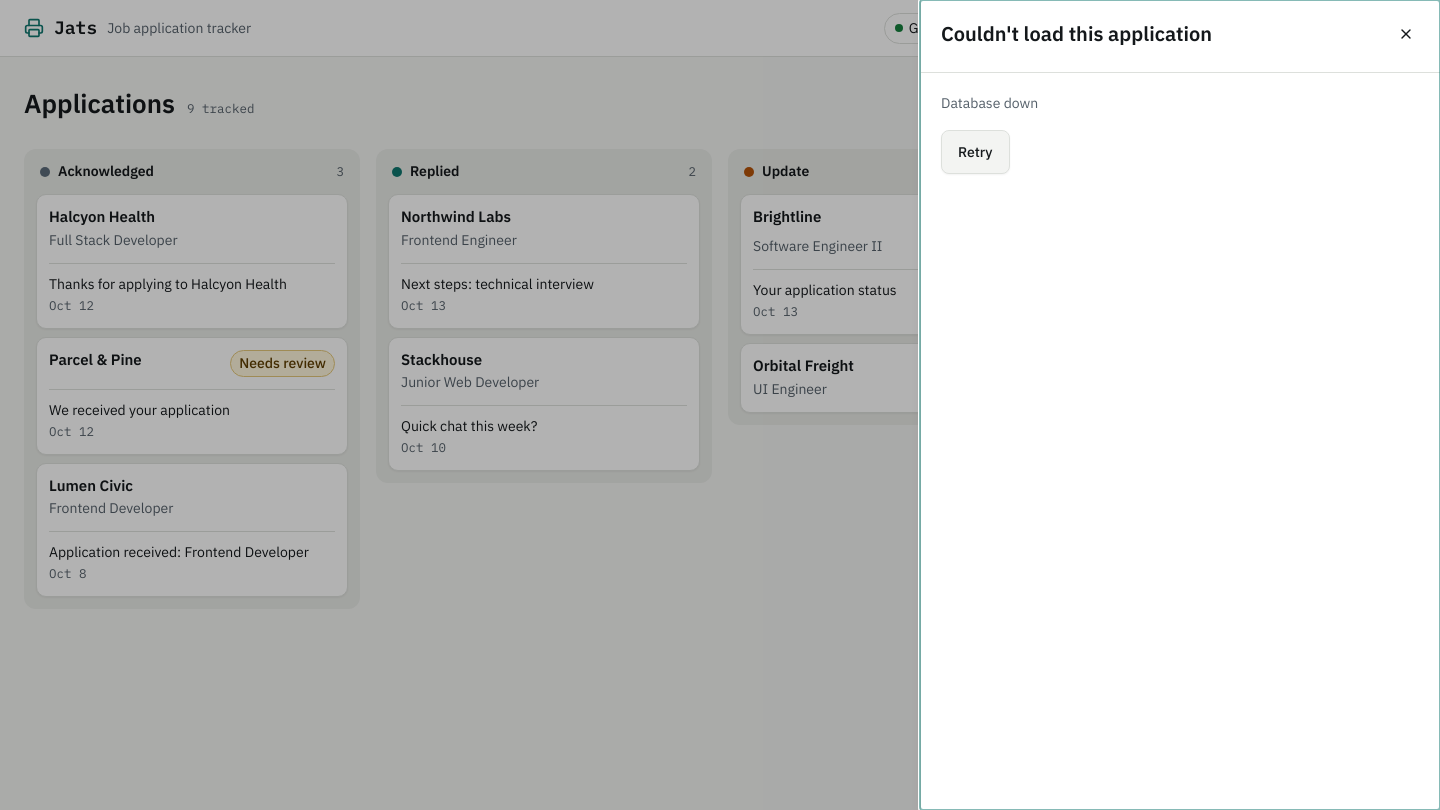
Test case: other errors show the message, and Retry loads the panel
The width and height of the screenshot is (1440, 810).
expect the message shows "Database down": met, box [941,94,1038,112]
Step 1. Click the button "Retry" → (975, 152), box [941,130,1010,174]
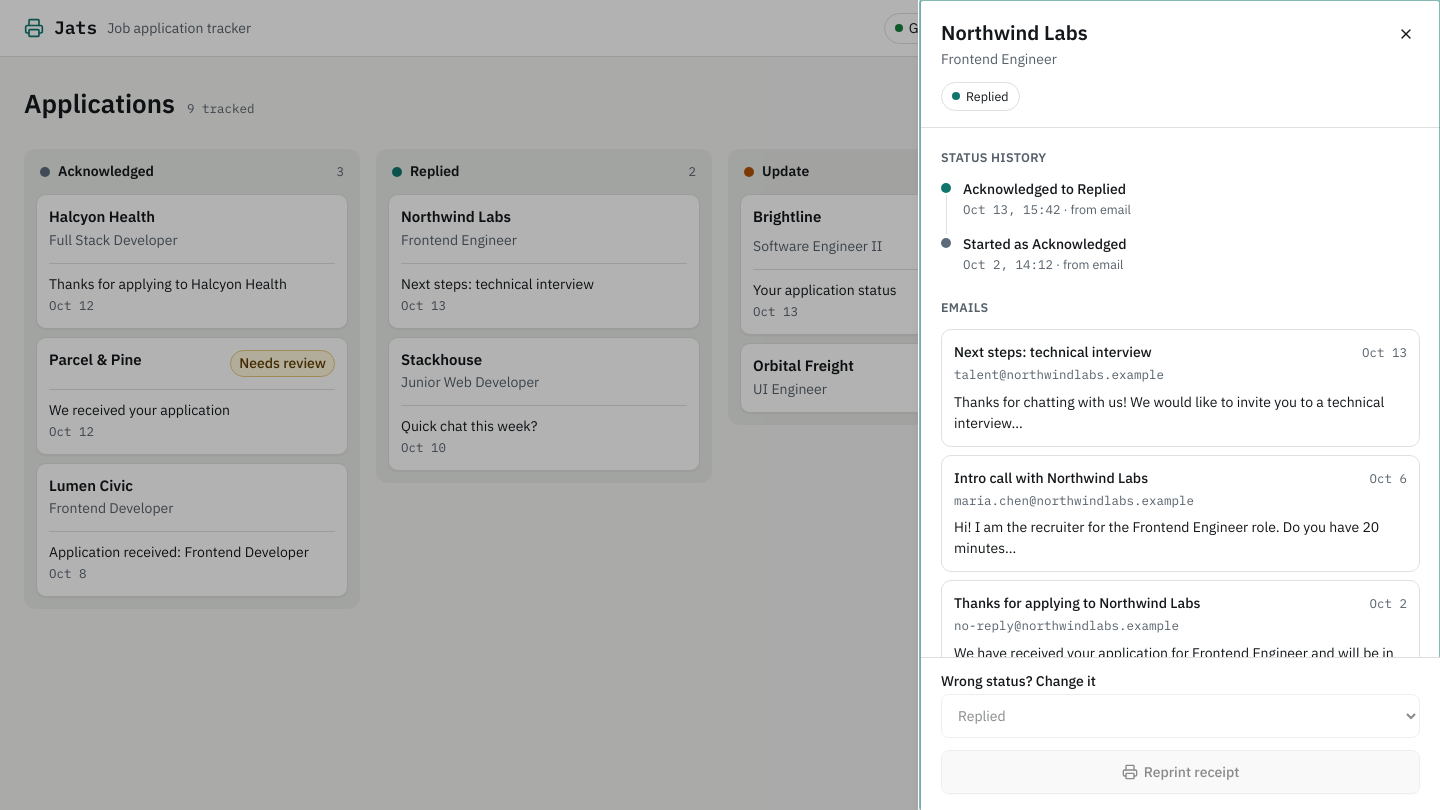
expect the dialog "Northwind Labs" is shown: met, box [920,0,1439,809]
